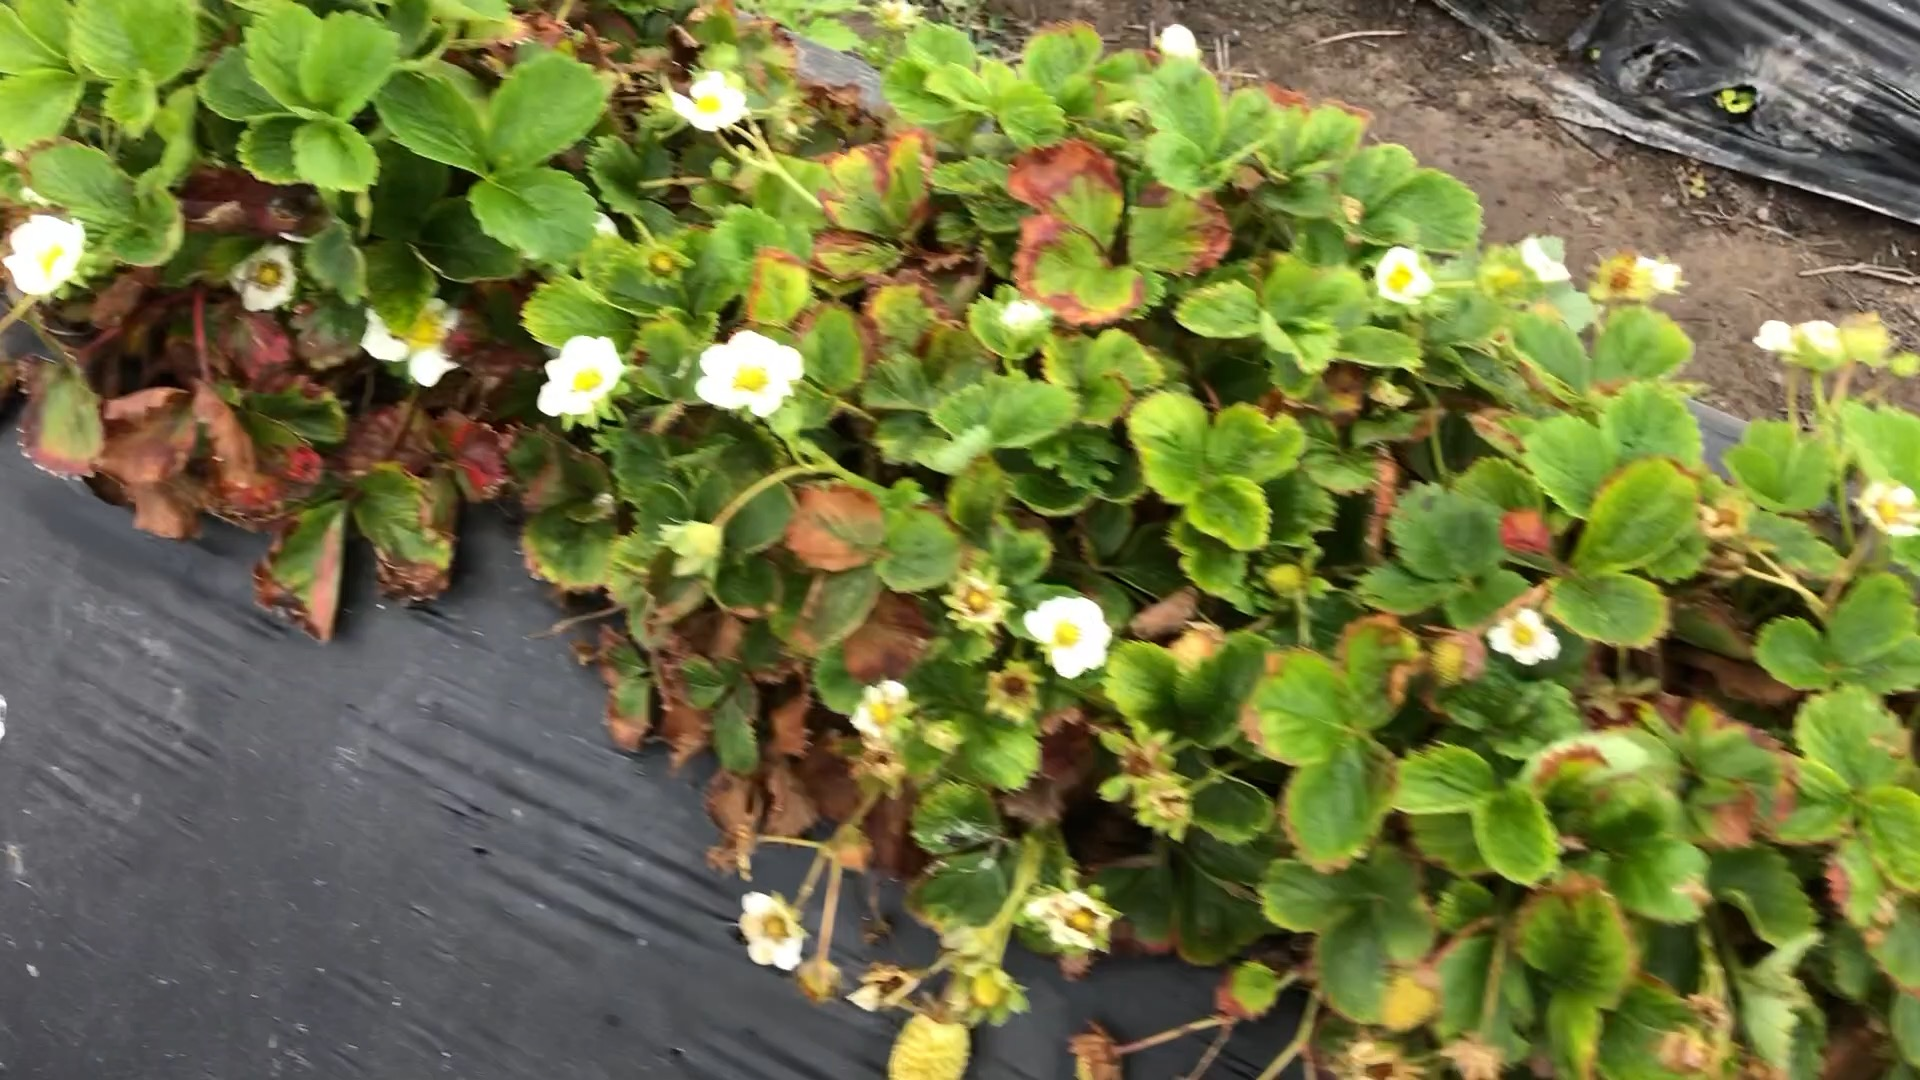unripe_strawberry: (884, 1005, 975, 1080), (1265, 558, 1312, 599)
